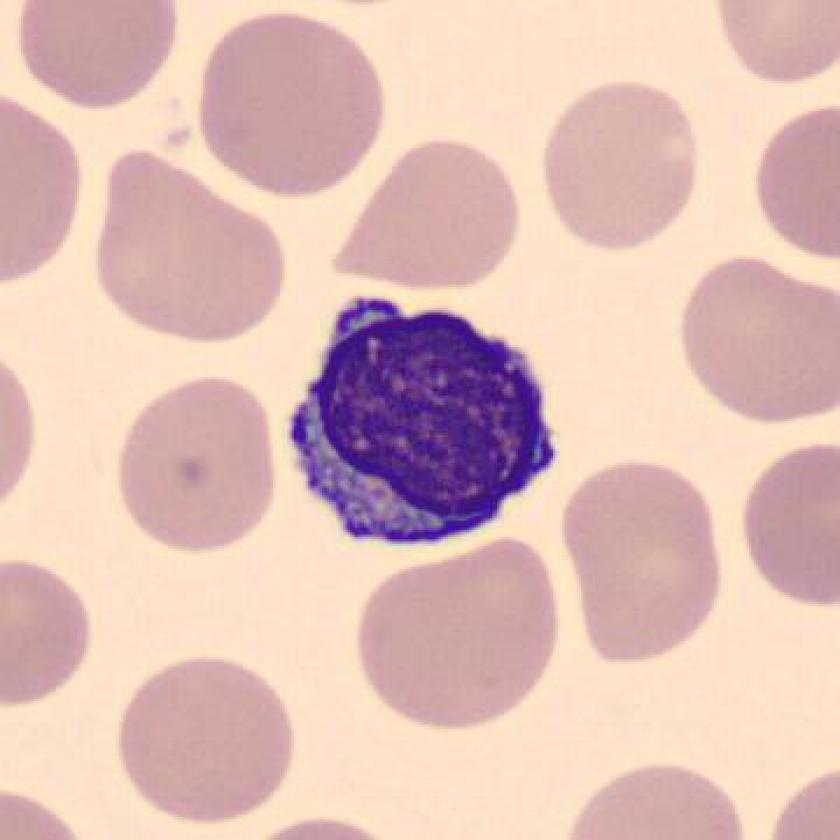lymphocyte: (270, 279, 578, 563)
